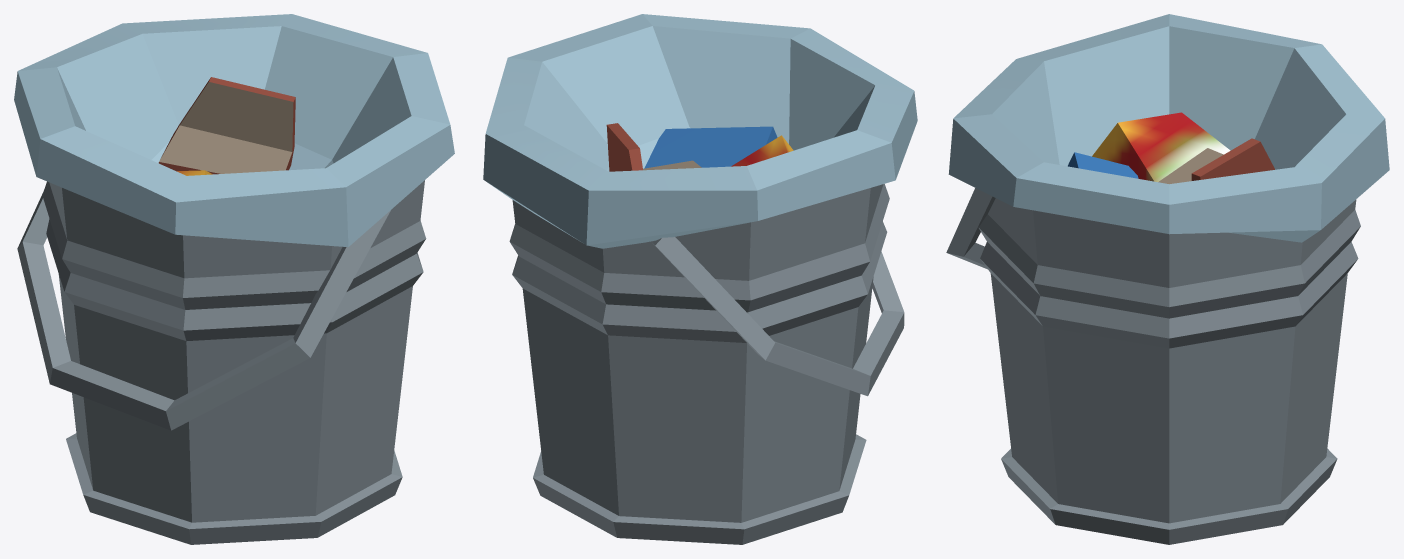
Rendered from SM_Prop_Cafe_Bin_02.obj.
3 renders of one model, left to right at view 1: azimuth 30°, elevation 25°; view 2: azimuth 150°, elevation 25°; view 3: azimuth 270°, elevation 25°, orthographic. The views are drawn at different scales.
Visible parts, largest first — view 1: SM_Prop_Cafe_Bin_02_0; view 2: SM_Prop_Cafe_Bin_02_0; view 3: SM_Prop_Cafe_Bin_02_0.
Part boxes in pixels (left/top/right/bottom): SM_Prop_Cafe_Bin_02_0: left=14, top=14, right=454, bottom=544; SM_Prop_Cafe_Bin_02_0: left=483, top=14, right=917, bottom=544; SM_Prop_Cafe_Bin_02_0: left=946, top=14, right=1389, bottom=544.
Bounding box in the file's own units: 0.4208 × 0.3959 × 0.4232.
Materials: 1 (1 with a texture image).
